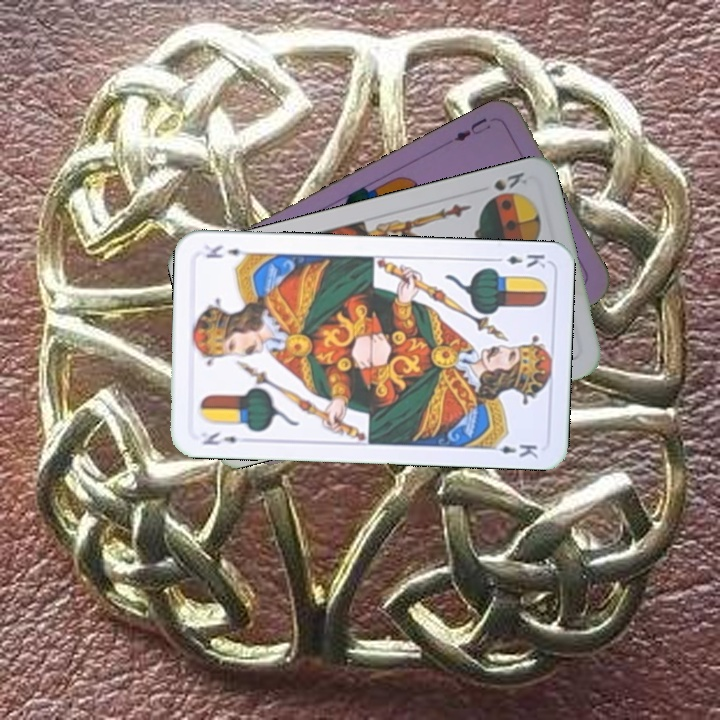EK: (489, 250, 548, 270), (199, 428, 240, 448)
EU: (450, 114, 493, 144)
SK: (489, 168, 531, 194)
